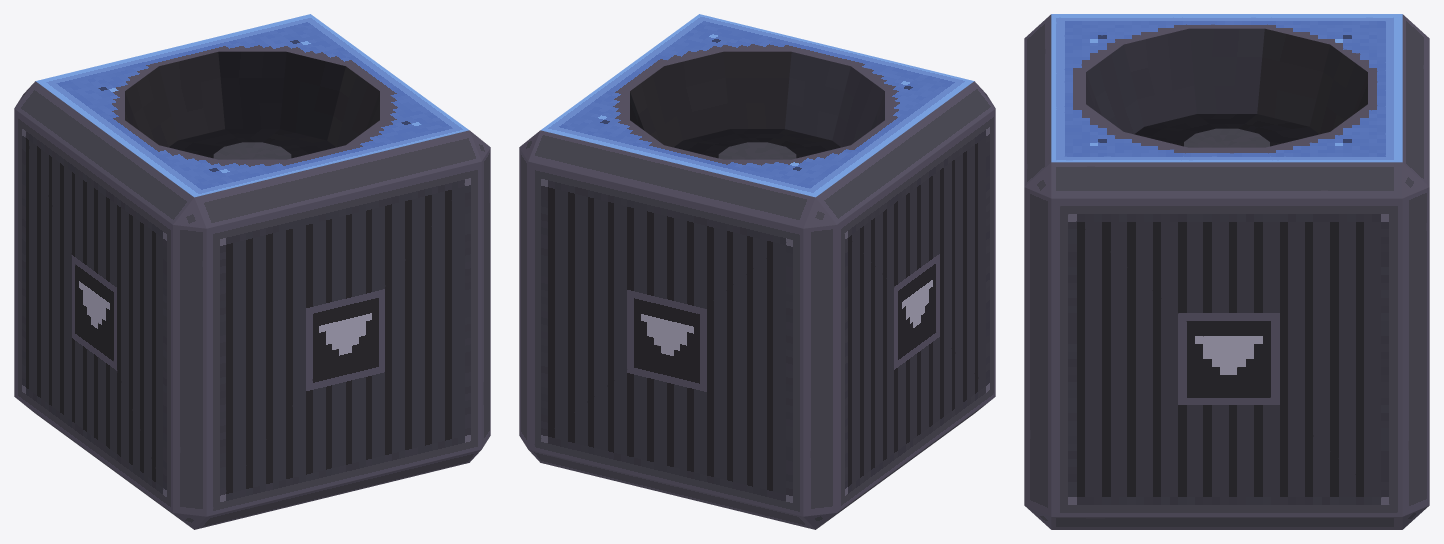
Rendered from collector.glb.
The picture shows the model from 3 angles, left to right: view 1: azimuth 30°, elevation 25°; view 2: azimuth 150°, elevation 25°; view 3: azimuth 270°, elevation 25°; orthographic projection. The views are drawn at different scales.
Parts seen in each view (by area): view 1: collector_body; view 2: collector_body; view 3: collector_body.
Part boxes in pixels (box(x1,y1,x2,y2)): collector_body: box(14, 14, 490, 529); collector_body: box(519, 14, 995, 529); collector_body: box(1024, 14, 1429, 529).
Size of the model in its own units: 1 by 1 by 1.
Materials: 1 (1 with a texture image).
